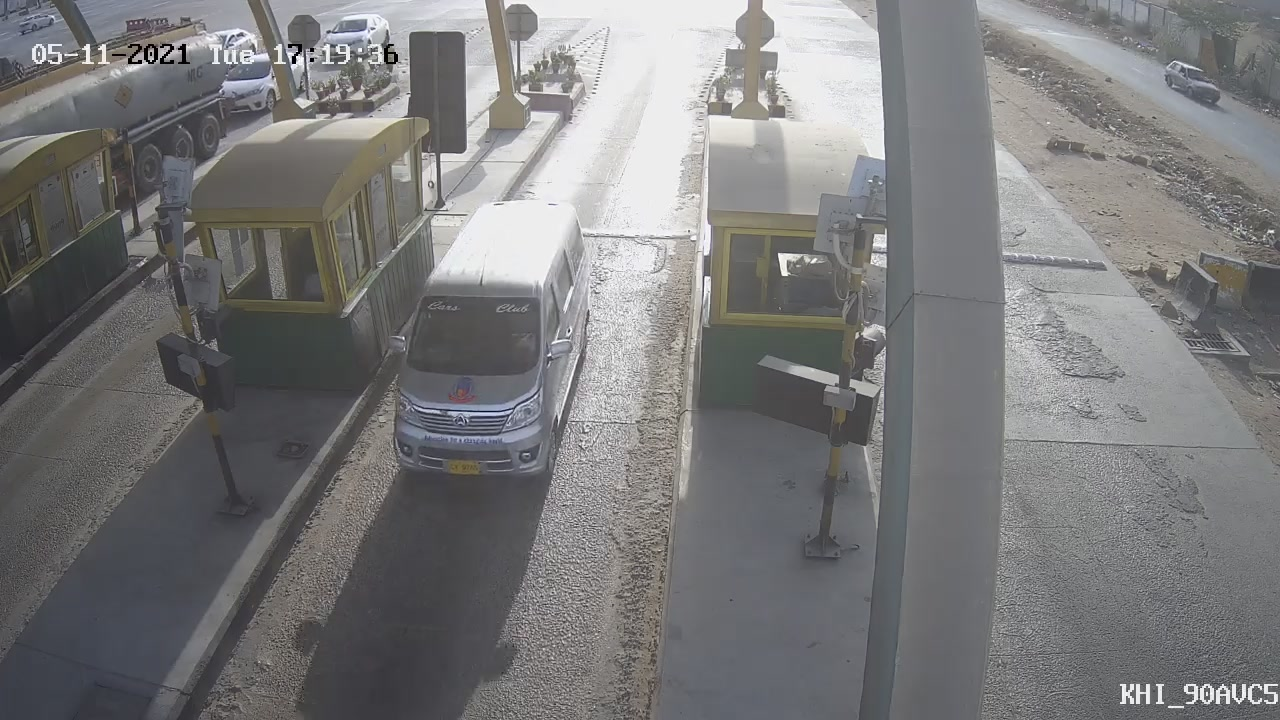F1: (347, 182, 622, 505)
